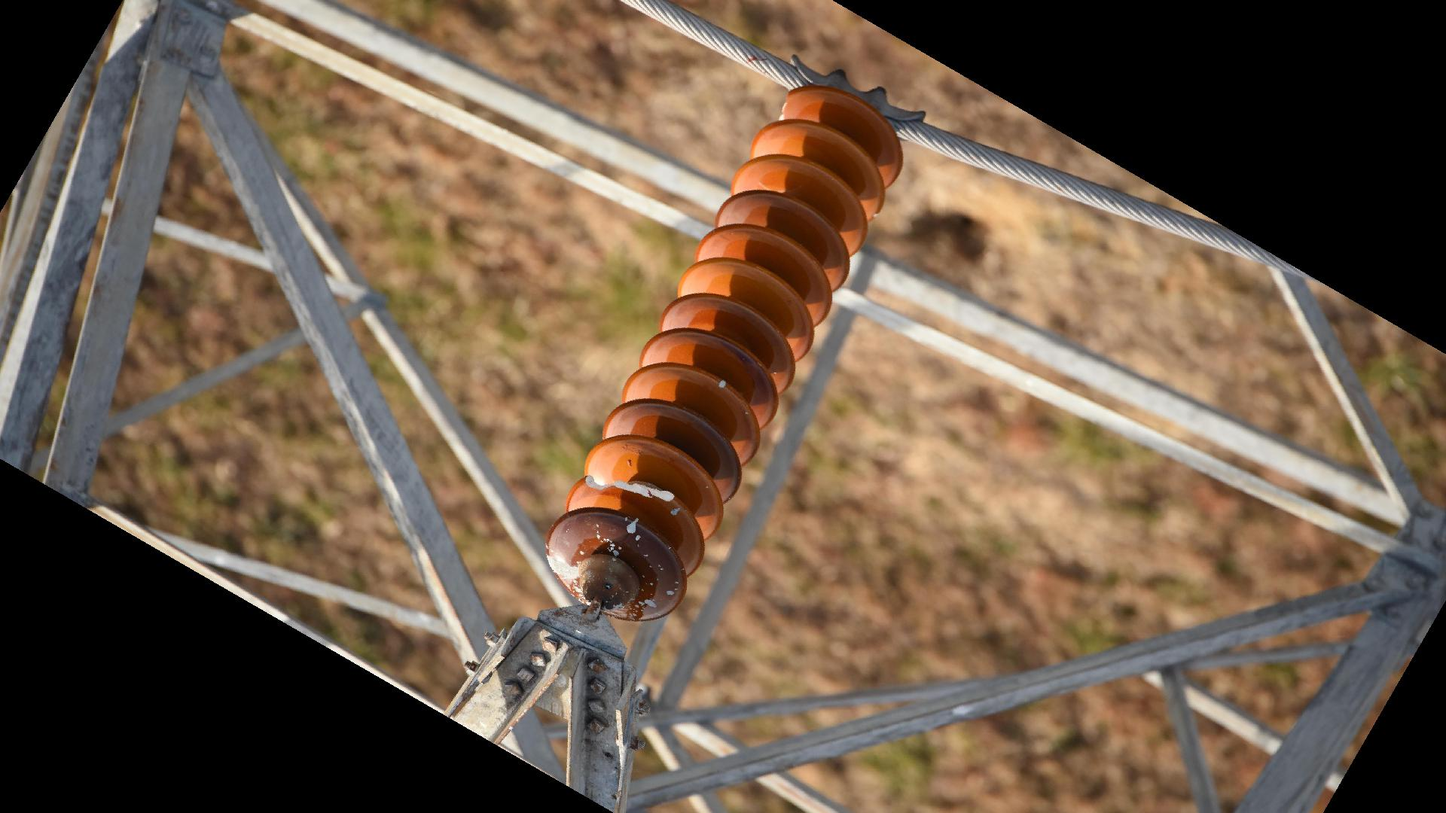insulator: (540, 77, 907, 629)
insulator_breakage: (576, 469, 682, 510)
